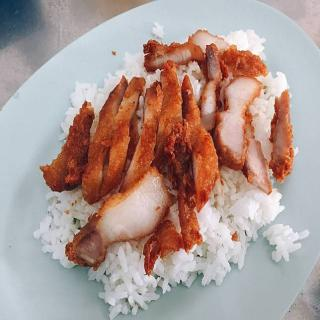carbs: (94, 172, 291, 318)
fried_pork_rice: (26, 21, 312, 310)
meat: (63, 64, 295, 226)
